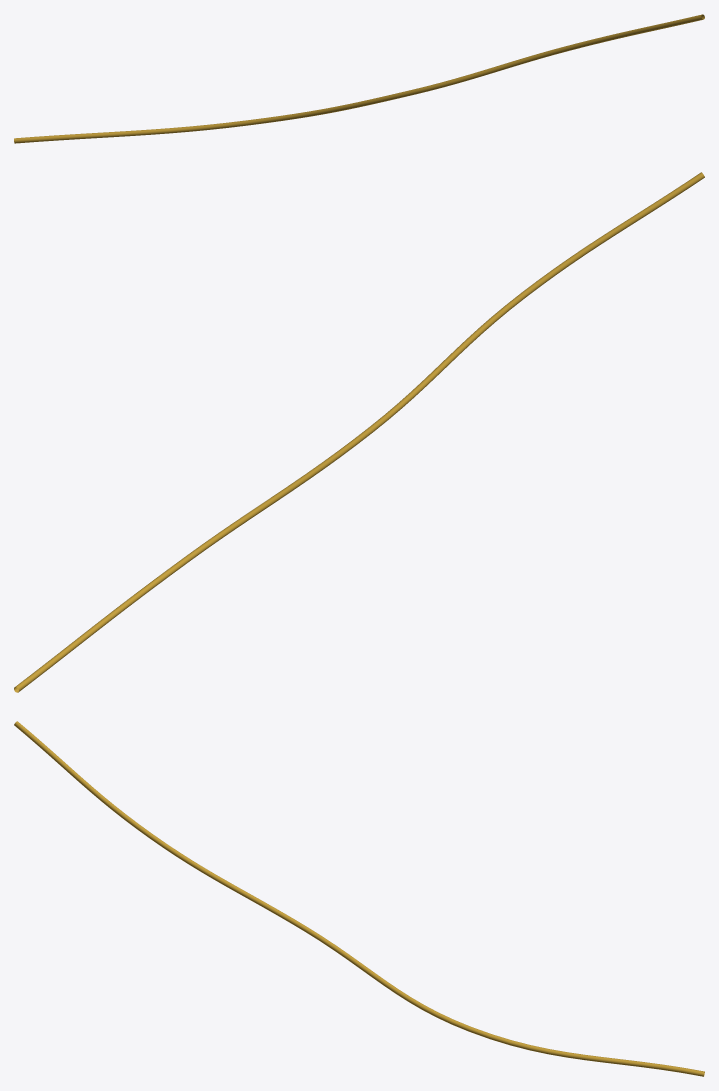
3 renders of one model, top to bottom at view 1: azimuth 90°, elevation 25°; view 2: azimuth 150°, elevation 25°; view 3: azimuth 270°, elevation 25°, orthographic. The views are drawn at different scales.
Parts seen in each view (by area): view 1: 左侧尺神经掌支; view 2: 左侧尺神经掌支; view 3: 左侧尺神经掌支.
Boxes of the visible parts, left/top/right/bottom form: 左侧尺神经掌支: left=14, top=14, right=704, bottom=143; 左侧尺神经掌支: left=14, top=172, right=704, bottom=692; 左侧尺神经掌支: left=14, top=721, right=704, bottom=1076.
Bounding box in the file's own units: 0.0739 × 0.0722 × 0.1867.
